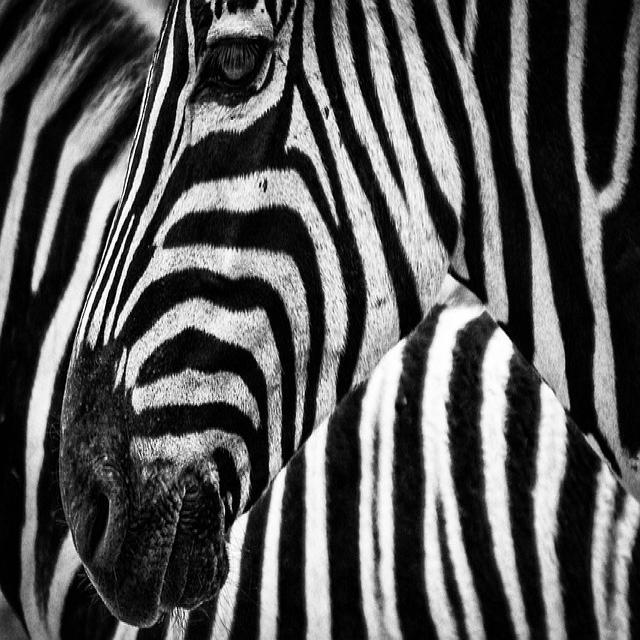Herbivorous: (60, 1, 640, 621)
